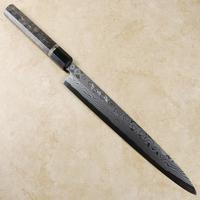knife: (6, 2, 198, 198)
